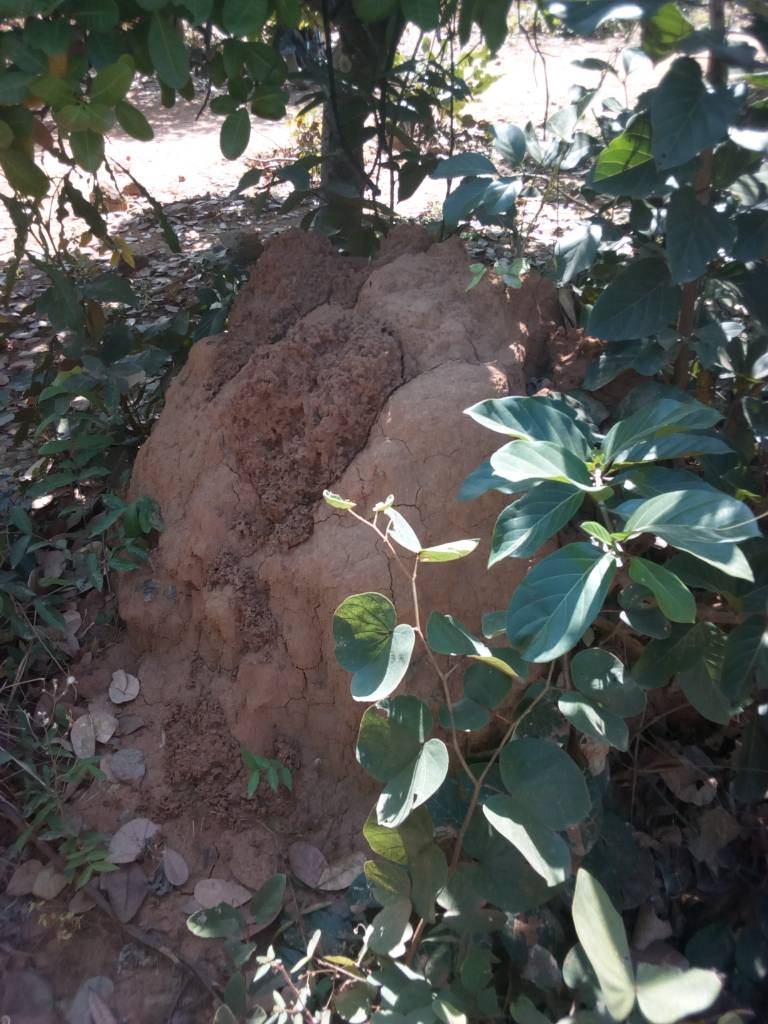Termites: (199, 249, 330, 778), (335, 241, 477, 503)
